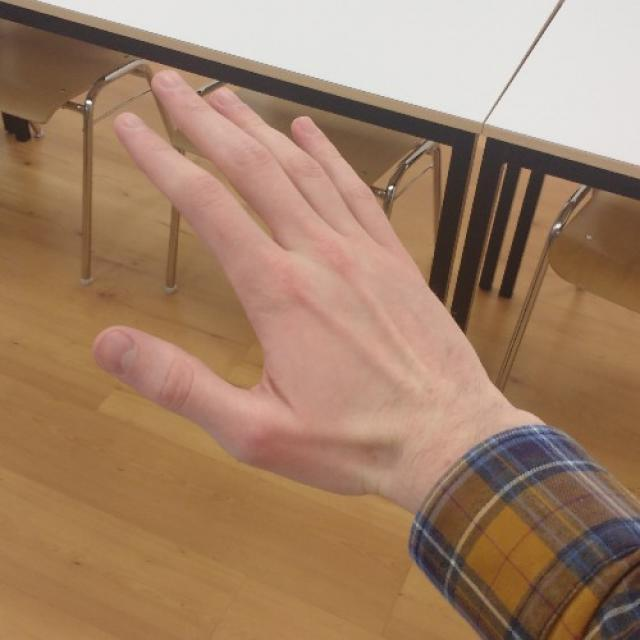paper: (94, 68, 463, 494)
